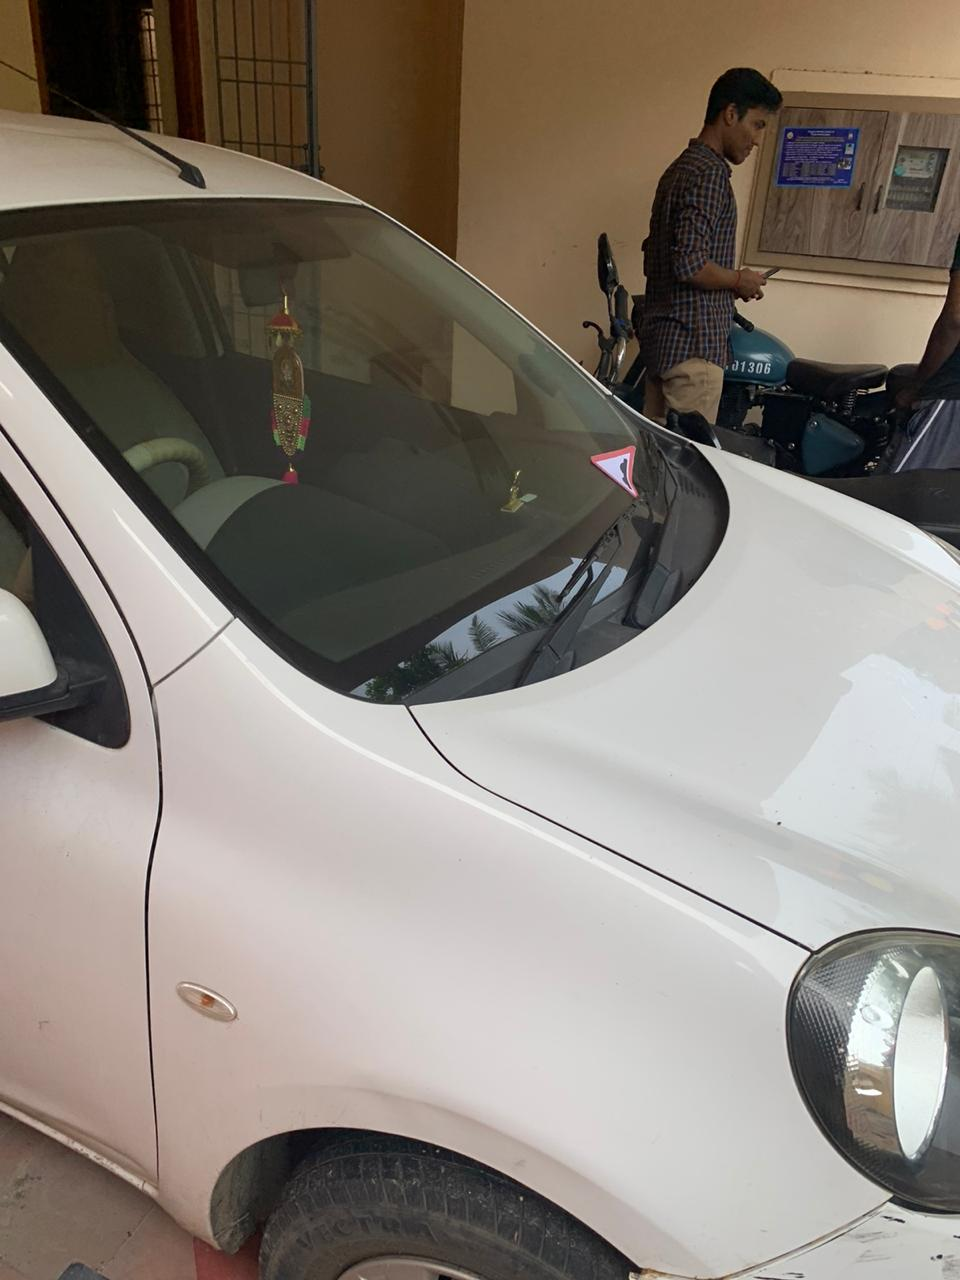UNEVEN ROAD: (567, 425, 678, 518)
